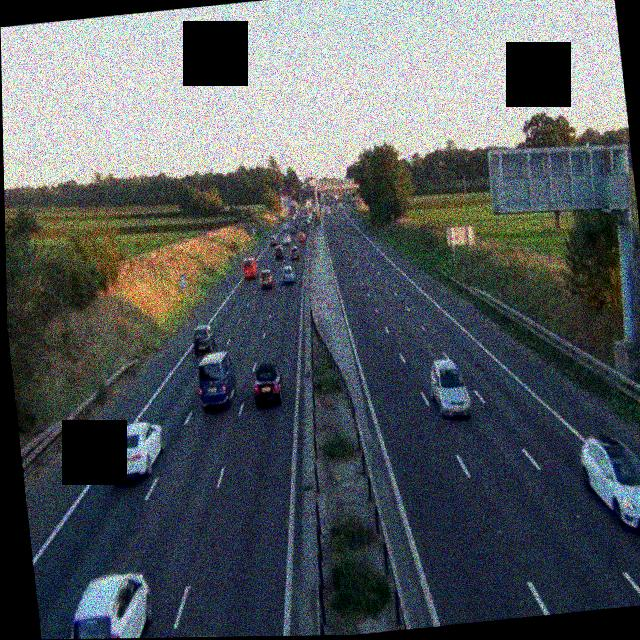car: (58, 571, 155, 639), (579, 431, 640, 535), (105, 419, 166, 481), (427, 354, 470, 419), (195, 350, 239, 409), (249, 360, 284, 406), (189, 321, 217, 357), (162, 632, 233, 638), (240, 256, 258, 278), (279, 264, 295, 286), (258, 264, 272, 283), (282, 246, 295, 263), (273, 242, 284, 260), (274, 230, 283, 245), (297, 228, 306, 242), (301, 222, 310, 235)
